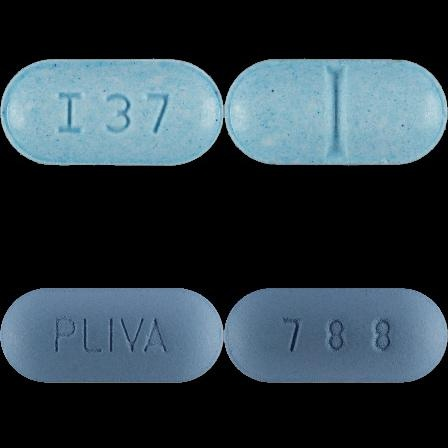61919-378: (0, 0, 224, 224)
